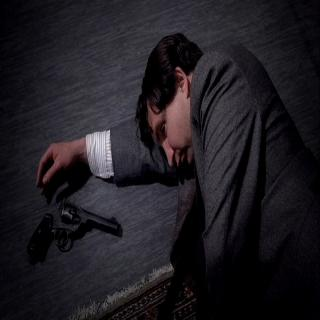gun: (26, 190, 123, 264)
